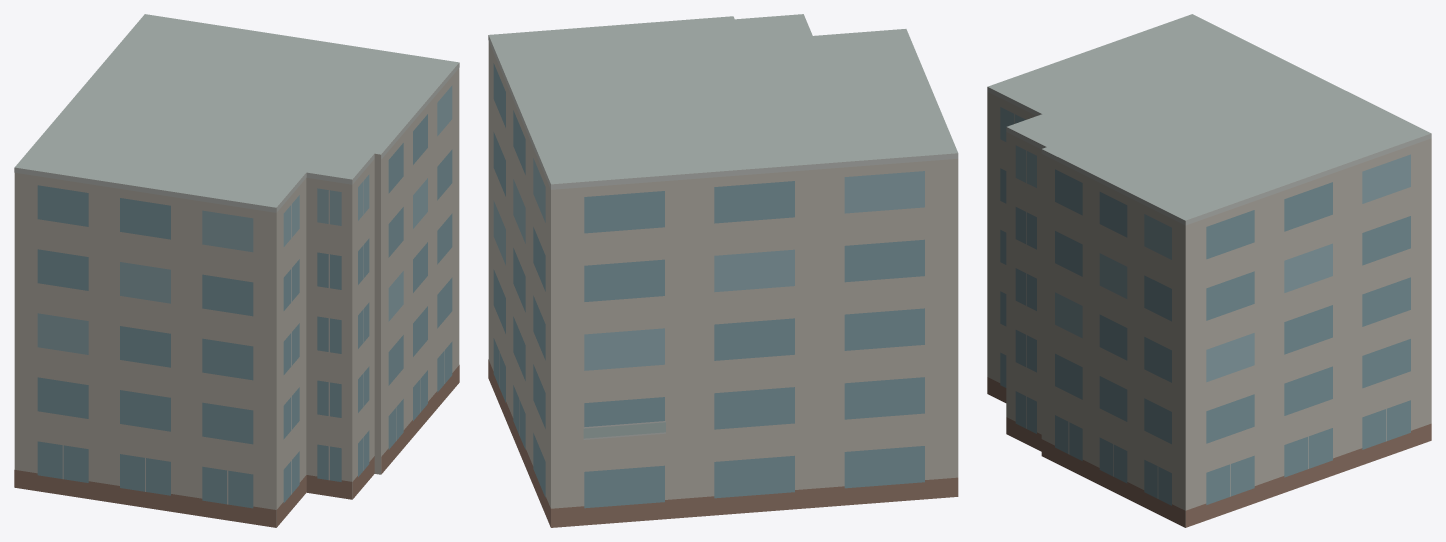
Rendered from survey-upis-32666550.glb.
3 renders of one model, left to right at view 1: azimuth 30°, elevation 25°; view 2: azimuth 150°, elevation 25°; view 3: azimuth 270°, elevation 25°, orthographic. The views are drawn at different scales.
Visible parts, largest first — view 1: survey-upis-32666550.tmp; view 2: survey-upis-32666550.tmp; view 3: survey-upis-32666550.tmp.
Part boxes in pixels (left/top/right/bottom): survey-upis-32666550.tmp: left=14, top=14, right=459, bottom=527; survey-upis-32666550.tmp: left=488, top=14, right=958, bottom=527; survey-upis-32666550.tmp: left=987, top=14, right=1431, bottom=527.
Size of the model in its own units: 22.01 by 15.25 by 19.99.
